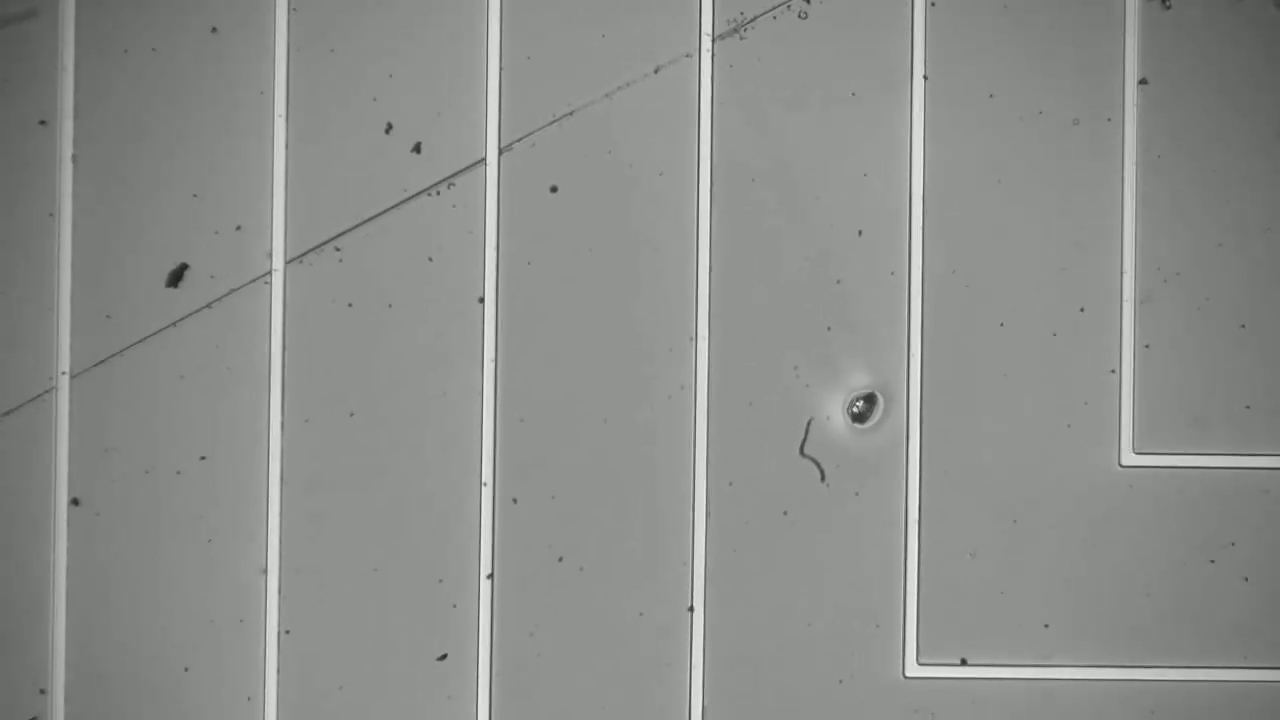scratch: (4, 1, 810, 415)
